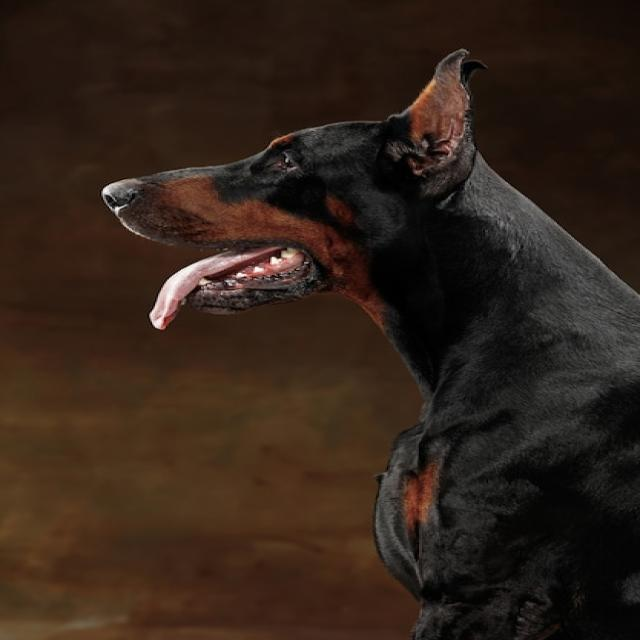Dog: (103, 48, 640, 640)
